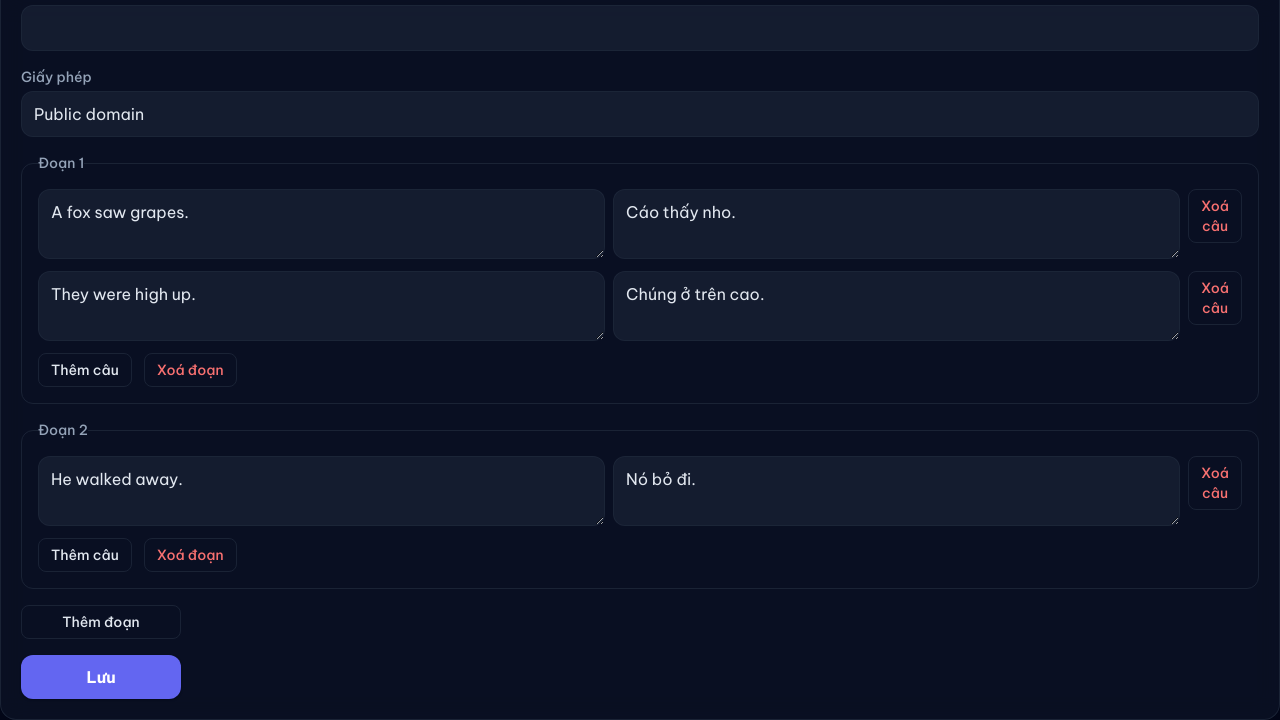
Test: ReadingEditForm › thêm và xoá câu
(page scrolled)
Click the button with aria-label "Thêm câu vào đoạn 2" at {"x": 85, "y": 555}, box [38,538,132,572]
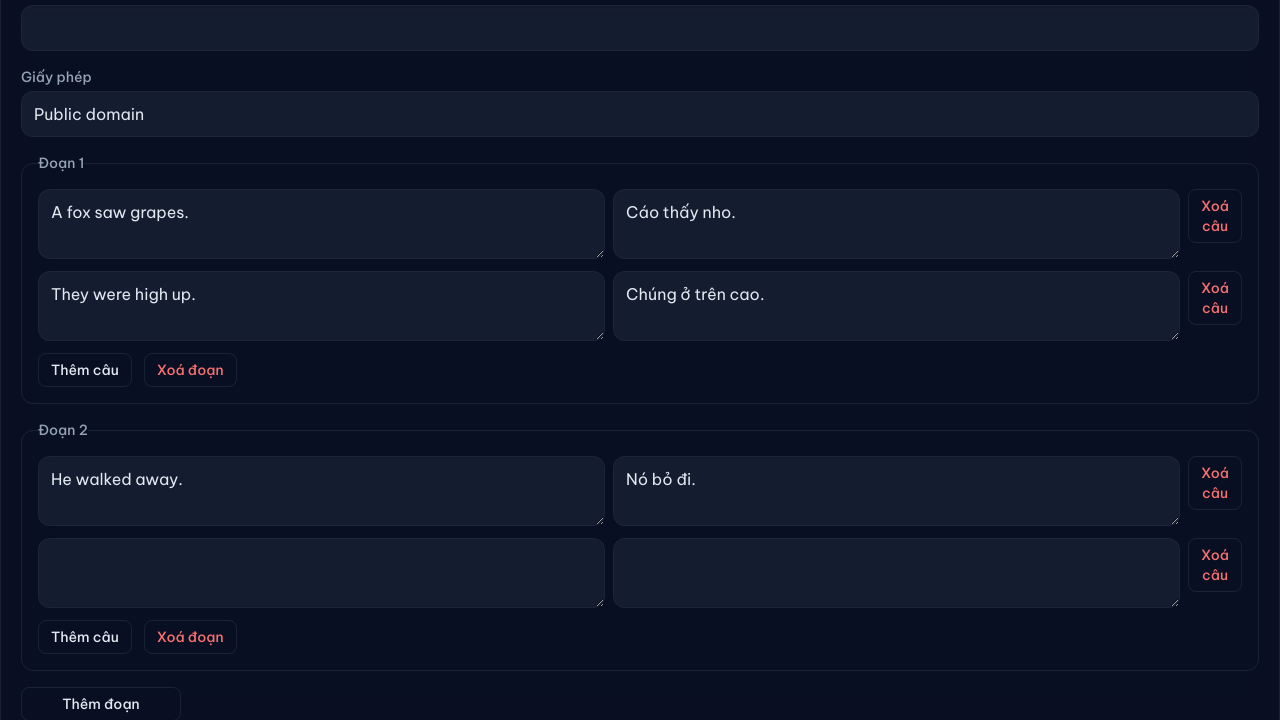
expect the text box named "Đoạn 2 câu 2 tiếng Anh" is empty: met, box [38,538,605,608]
Click the button with aria-label "Xoá câu 1 của đoạn 1" at {"x": 1215, "y": 216}, box [1188,189,1242,243]
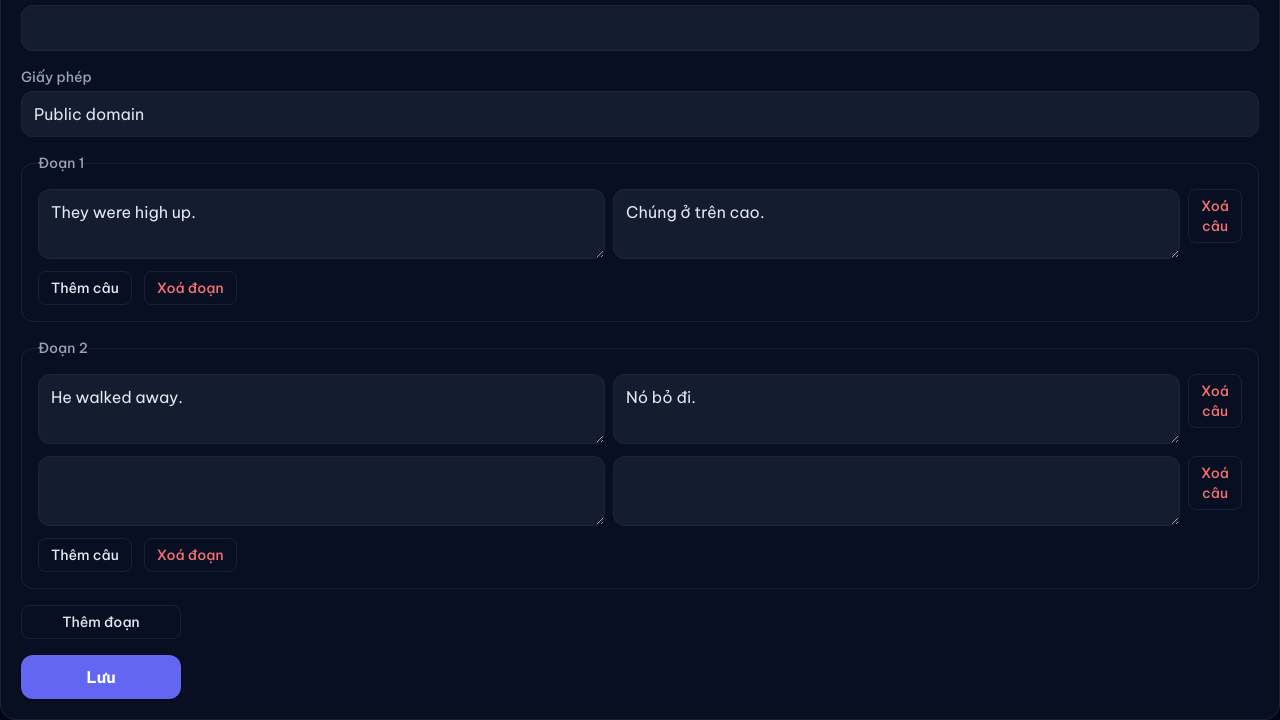
expect the text box named "Đoạn 1 câu 1 tiếng Anh" holds "They were high up.": met, box [38,189,605,259]
